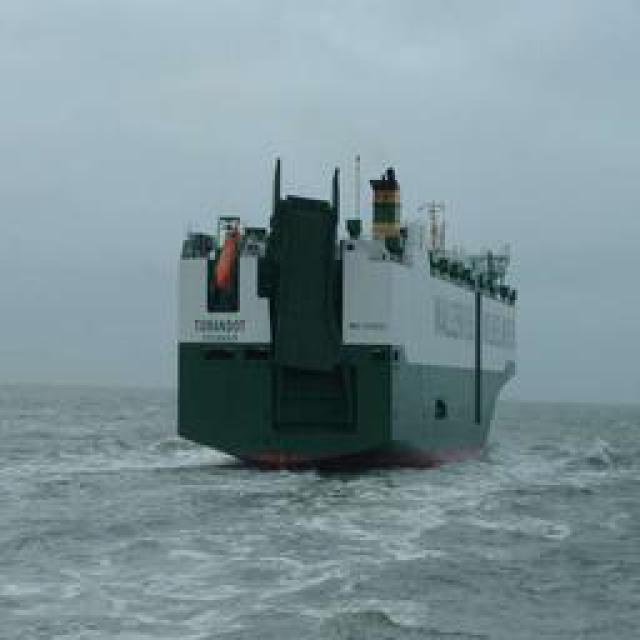Ship: (166, 128, 516, 476)
